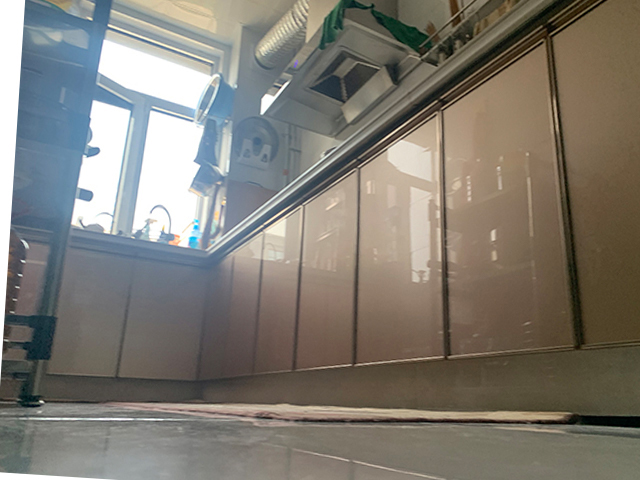cabinet: (214, 133, 640, 419), (60, 228, 210, 395)
carpet: (106, 398, 577, 425)
